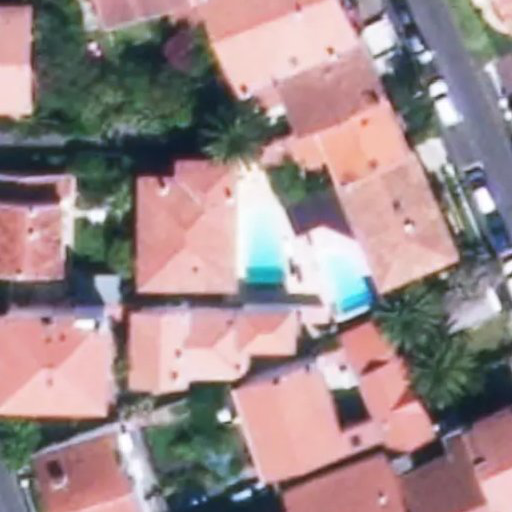pool: (237, 202, 275, 281)
